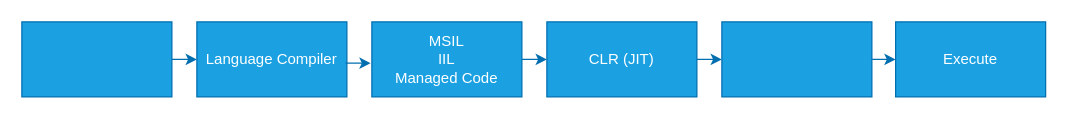
This 1068x119 diagram has some shape labels left out. The shapes that lost their labels are listed below. From the top down, each one's centre as x and y in pixels, then its label:
the point at 96,59: SourceCode
the point at 796,59: Native Code
